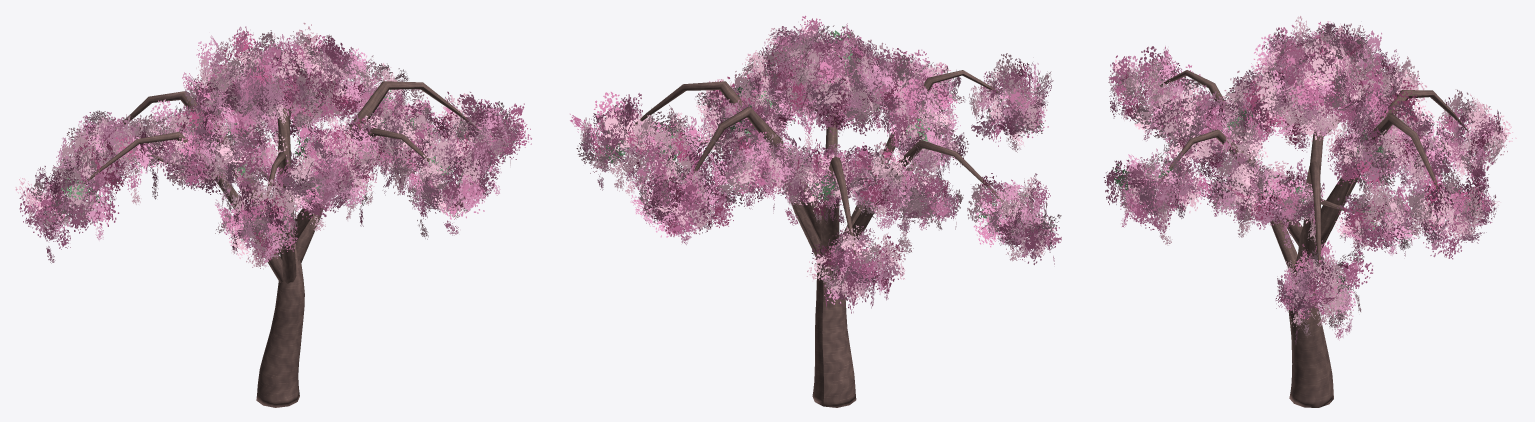
Rendered from Tree_Cherry_01_PinkBloom.glb.
The picture shows the model from 3 angles, left to right: view 1: azimuth 30°, elevation 25°; view 2: azimuth 150°, elevation 25°; view 3: azimuth 270°, elevation 25°; orthographic projection.
Parts seen in each view (by area): view 1: Tree_Cherry_01_PinkBloom; view 2: Tree_Cherry_01_PinkBloom; view 3: Tree_Cherry_01_PinkBloom.
Boxes of the visible parts, left/top/right/bottom form: Tree_Cherry_01_PinkBloom: left=15, top=22, right=531, bottom=407; Tree_Cherry_01_PinkBloom: left=570, top=15, right=1061, bottom=407; Tree_Cherry_01_PinkBloom: left=1103, top=16, right=1516, bottom=407.
Bounding box in the file's own units: 11.04 × 7.6 × 7.94.
Materials: 2 (2 with a texture image).
